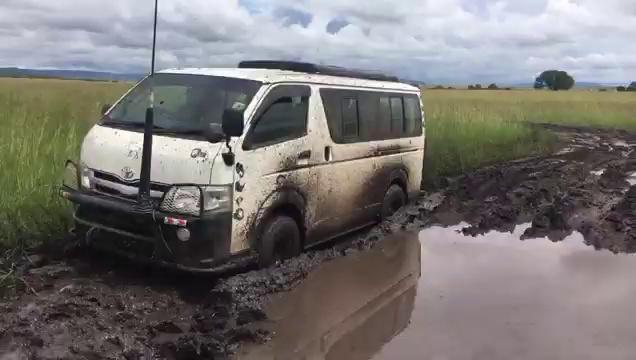van: (62, 56, 430, 277)
